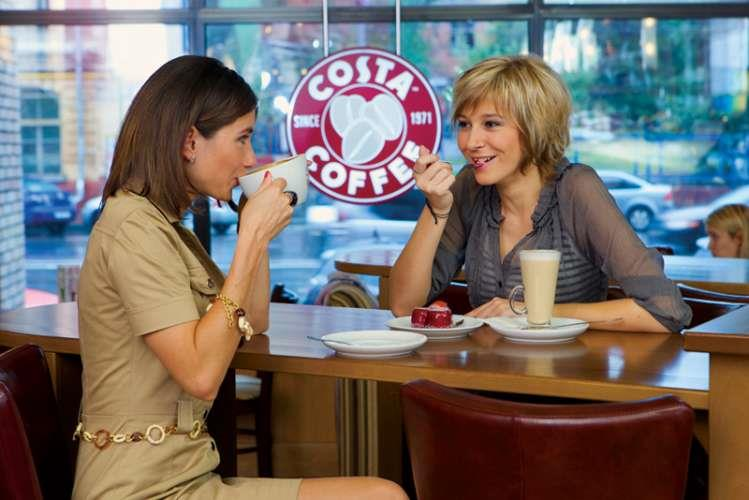costa_coffee: (280, 48, 450, 205)
